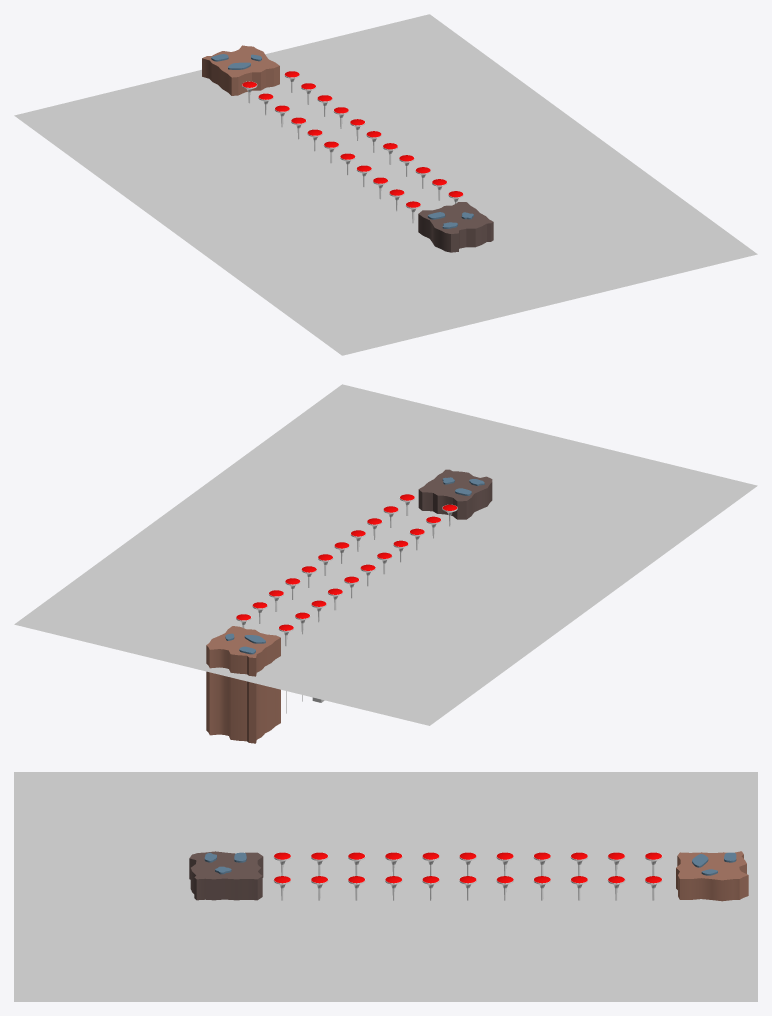
Rendered from Level 2.fbx.
The picture shows the model from 3 angles, top to bottom: view 1: azimuth 30°, elevation 25°; view 2: azimuth 150°, elevation 25°; view 3: azimuth 270°, elevation 25°; orthographic projection. The views are drawn at different scales.
Parts seen in each view (by area): view 1: LevelFailed, End, Start; view 2: LevelFailed, Start, End; view 3: LevelFailed, End, Start.
Part boxes in pixels (x1,y1,x2,y2): LevelFailed: [14, 14, 757, 355]; End: [418, 202, 493, 252]; Start: [202, 45, 279, 95]; LevelFailed: [14, 384, 757, 725]; Start: [206, 626, 280, 743]; End: [418, 469, 492, 519]; LevelFailed: [14, 772, 757, 1001]; End: [189, 851, 263, 900]; Start: [676, 851, 748, 901].
Size of what is drawn, in the model's own units: 12492 by 2820 by 17083.
